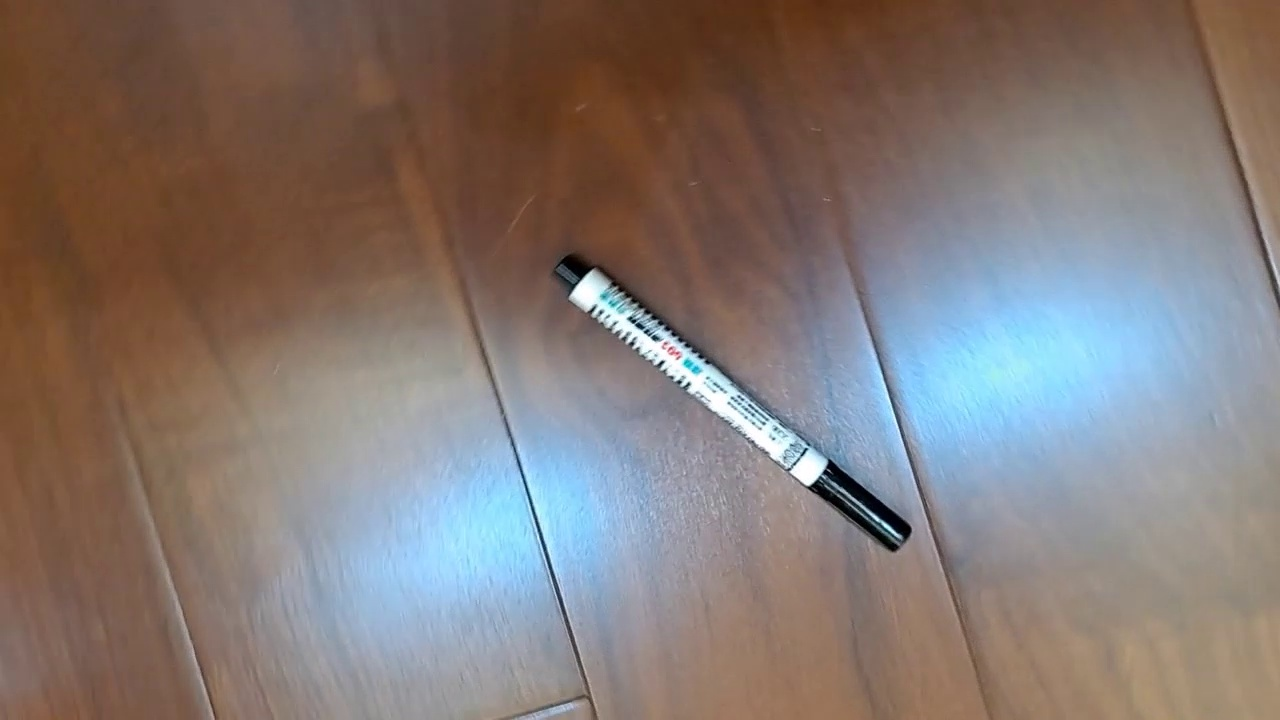pen: (551, 253, 913, 553)
